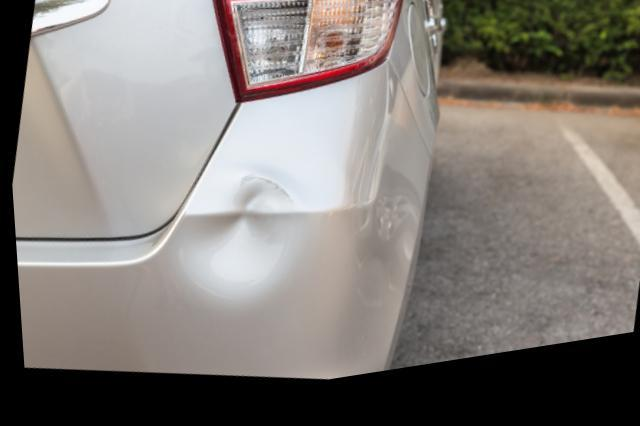dent: (181, 185, 290, 303)
